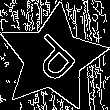P_SE: (22, 27, 83, 89)
